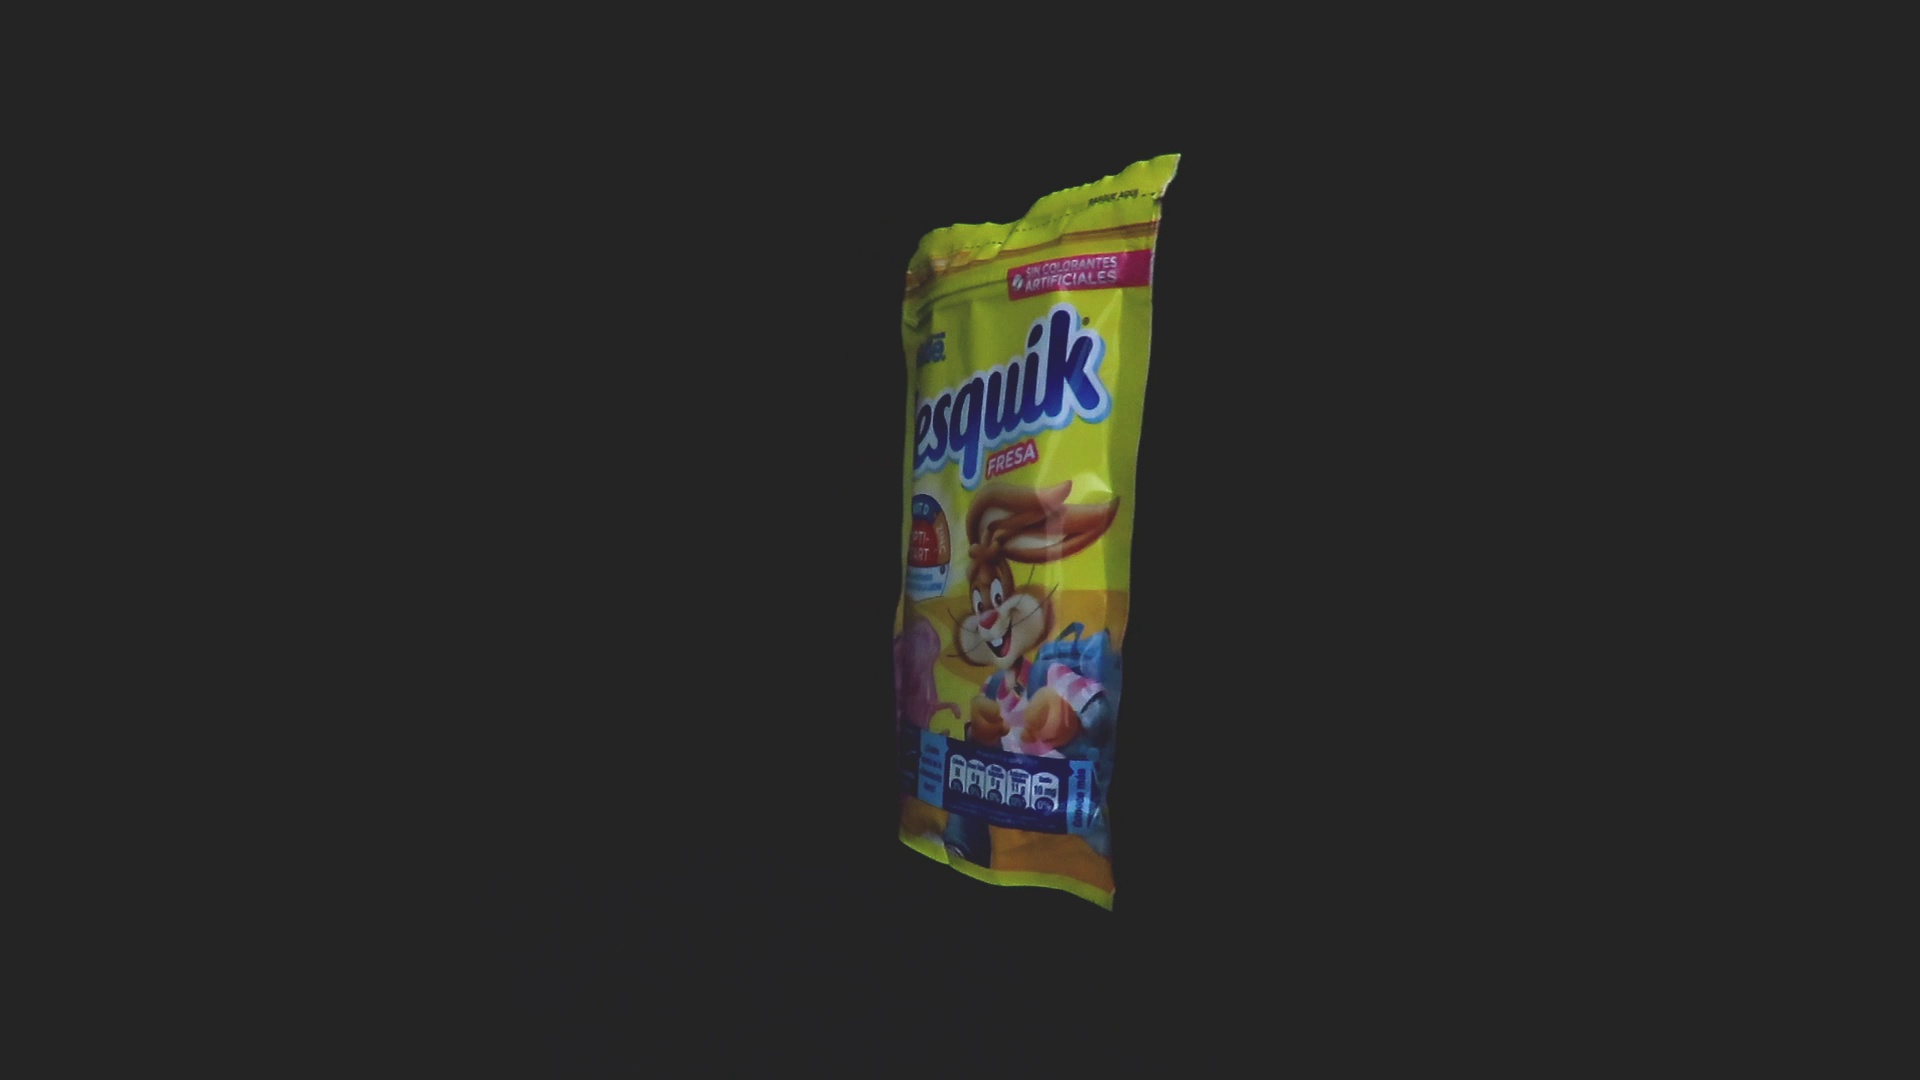COL0170305DYP20000: (887, 148, 1187, 916)
